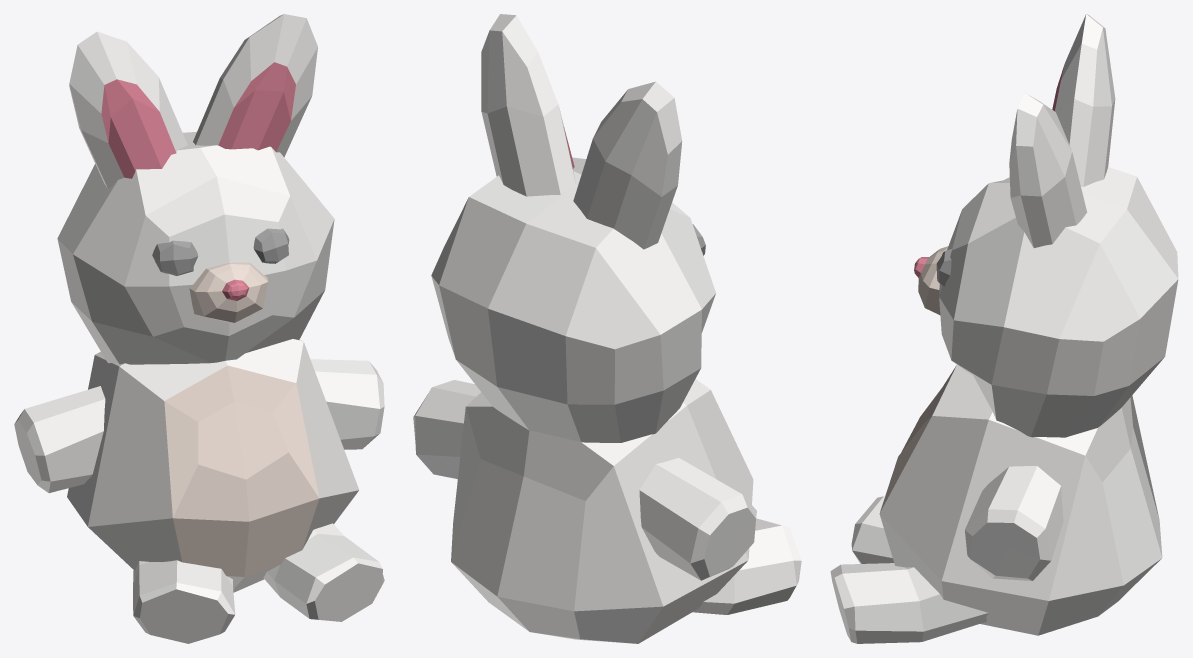
Rendered from Toy_Bunny_1.fbx.
The picture shows the model from 3 angles, left to right: view 1: azimuth 30°, elevation 25°; view 2: azimuth 150°, elevation 25°; view 3: azimuth 270°, elevation 25°; orthographic projection. The views are drawn at different scales.
Visible parts, largest first — view 1: Toy_Bunny_1; view 2: Toy_Bunny_1; view 3: Toy_Bunny_1.
Boxes of the visible parts, <box> form: Toy_Bunny_1: <box>14,14,384,643</box>; Toy_Bunny_1: <box>413,14,801,643</box>; Toy_Bunny_1: <box>830,14,1178,643</box>.
Size of the model in its own units: 53.36 by 47.98 by 85.94.
